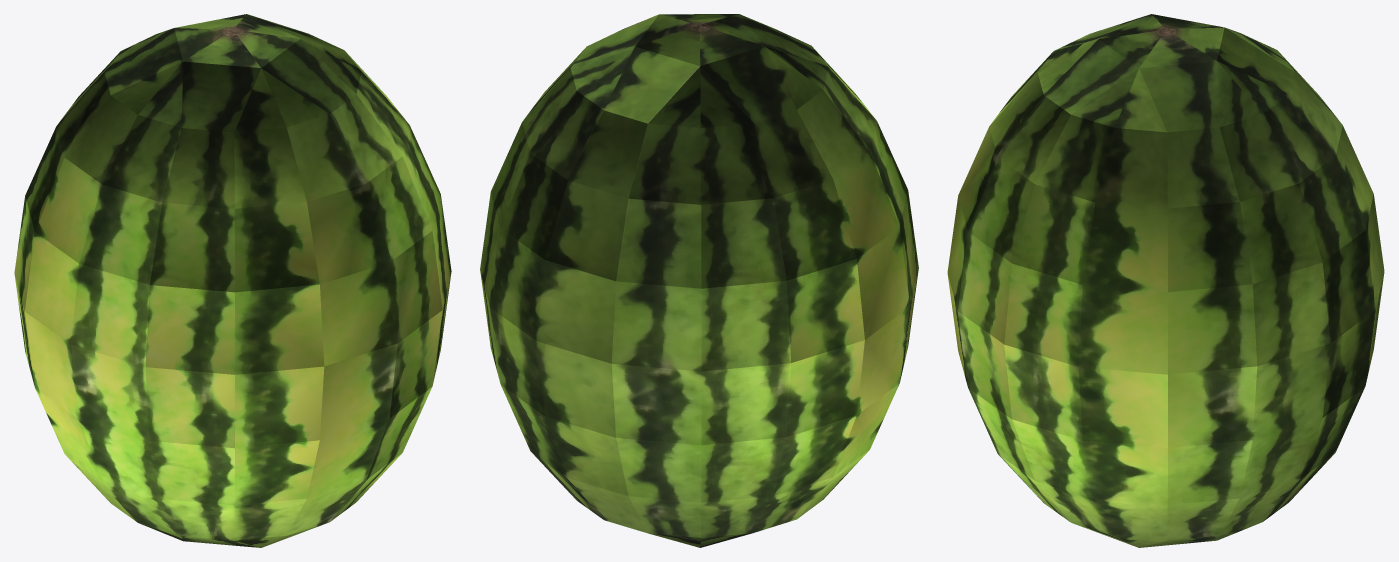
Rendered from WatermelonCollider.fbx.
3 renders of one model, left to right at view 1: azimuth 30°, elevation 25°; view 2: azimuth 150°, elevation 25°; view 3: azimuth 270°, elevation 25°, orthographic.
Parts seen in each view (by area): view 1: WatermelonWholeCollider; view 2: WatermelonWholeCollider; view 3: WatermelonWholeCollider.
Part boxes in pixels (x1,y1,x2,y2): WatermelonWholeCollider: (14,14,451,547); WatermelonWholeCollider: (480,14,918,547); WatermelonWholeCollider: (947,14,1384,547).
Size of the model in its own units: 18.49 by 23.65 by 18.58.
